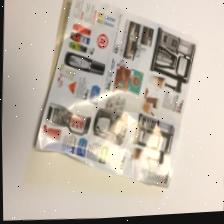paper: (18, 0, 208, 196)
